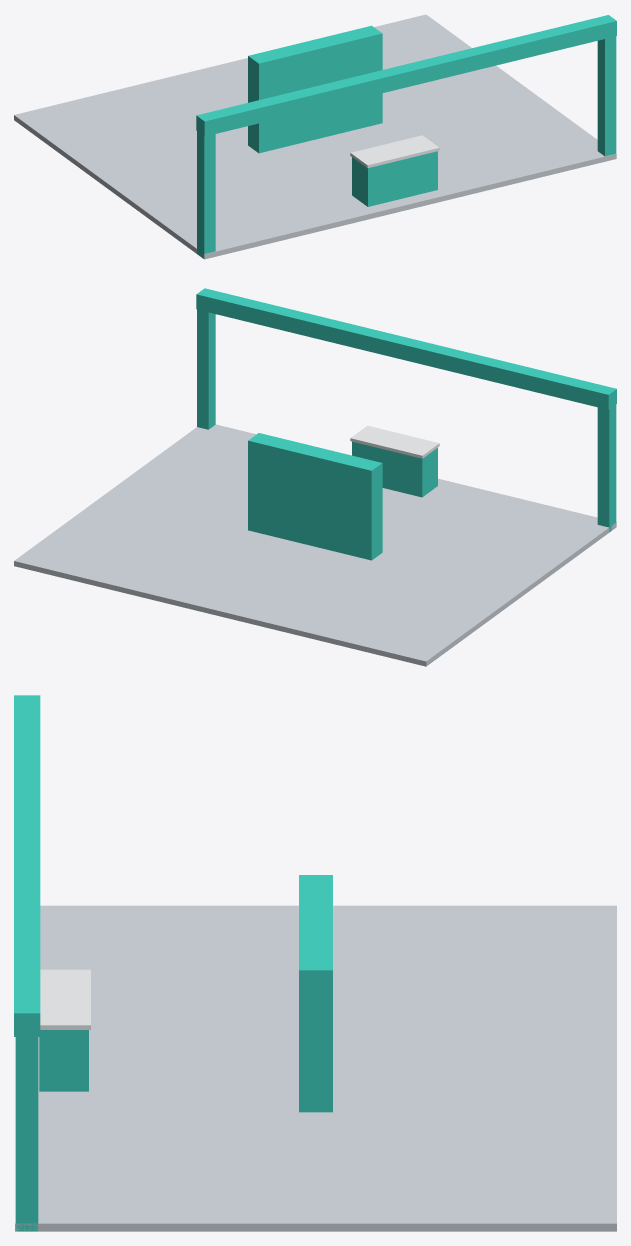
The picture shows the model from 3 angles, top to bottom: view 1: azimuth 30°, elevation 25°; view 2: azimuth 150°, elevation 25°; view 3: azimuth 270°, elevation 25°; orthographic projection. The views are drawn at different scales.
Visible parts, largest first — view 1: Exhibition Booth Concept; view 2: Exhibition Booth Concept; view 3: Exhibition Booth Concept.
Boxes of the visible parts, x1,y1,x2,y2 form: Exhibition Booth Concept: (14, 14, 616, 259); Exhibition Booth Concept: (14, 288, 616, 666); Exhibition Booth Concept: (14, 695, 616, 1231).
Size of the model in its own units: 10 by 3.2 by 8.01.
